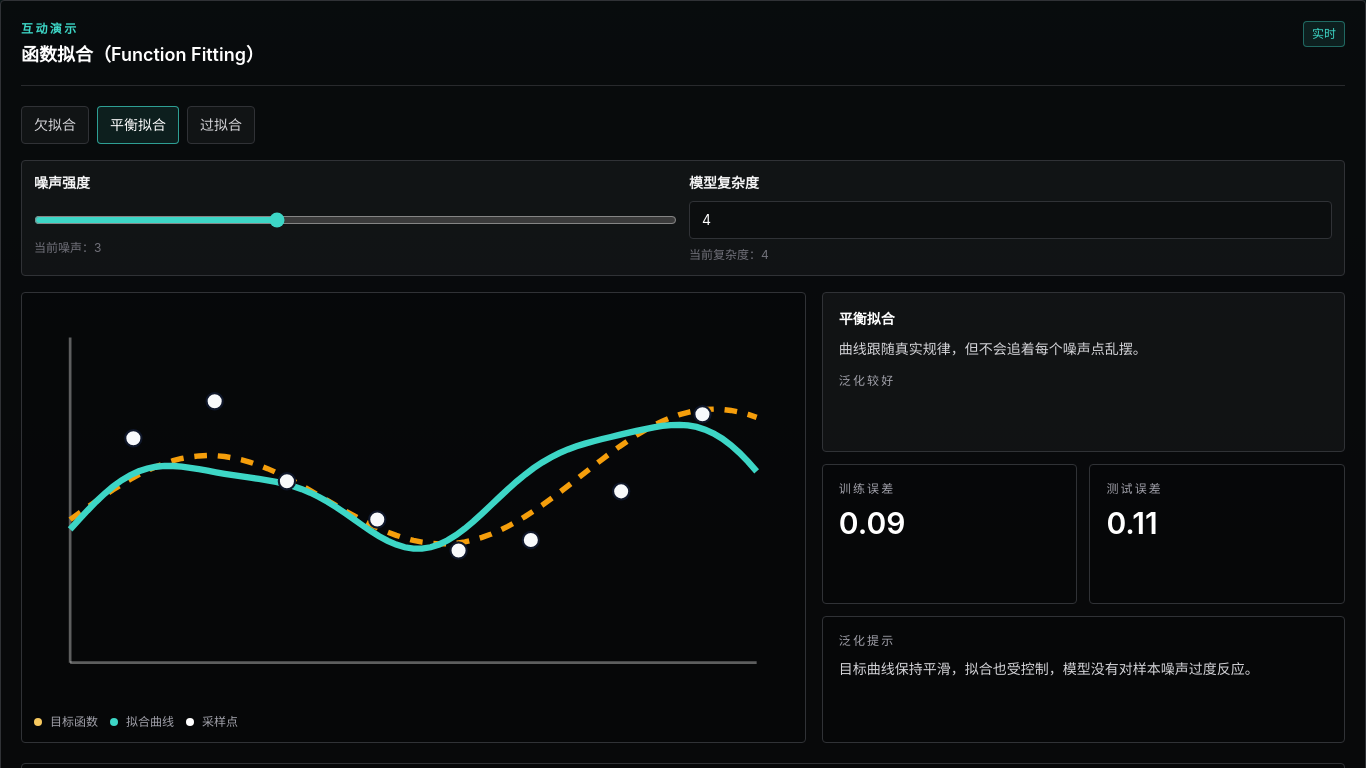
FunctionFittingDemo › lets the presenter tune noise and model complexity
Click the button "过拟合" at coordinates (221, 125), box [187,106,255,144]
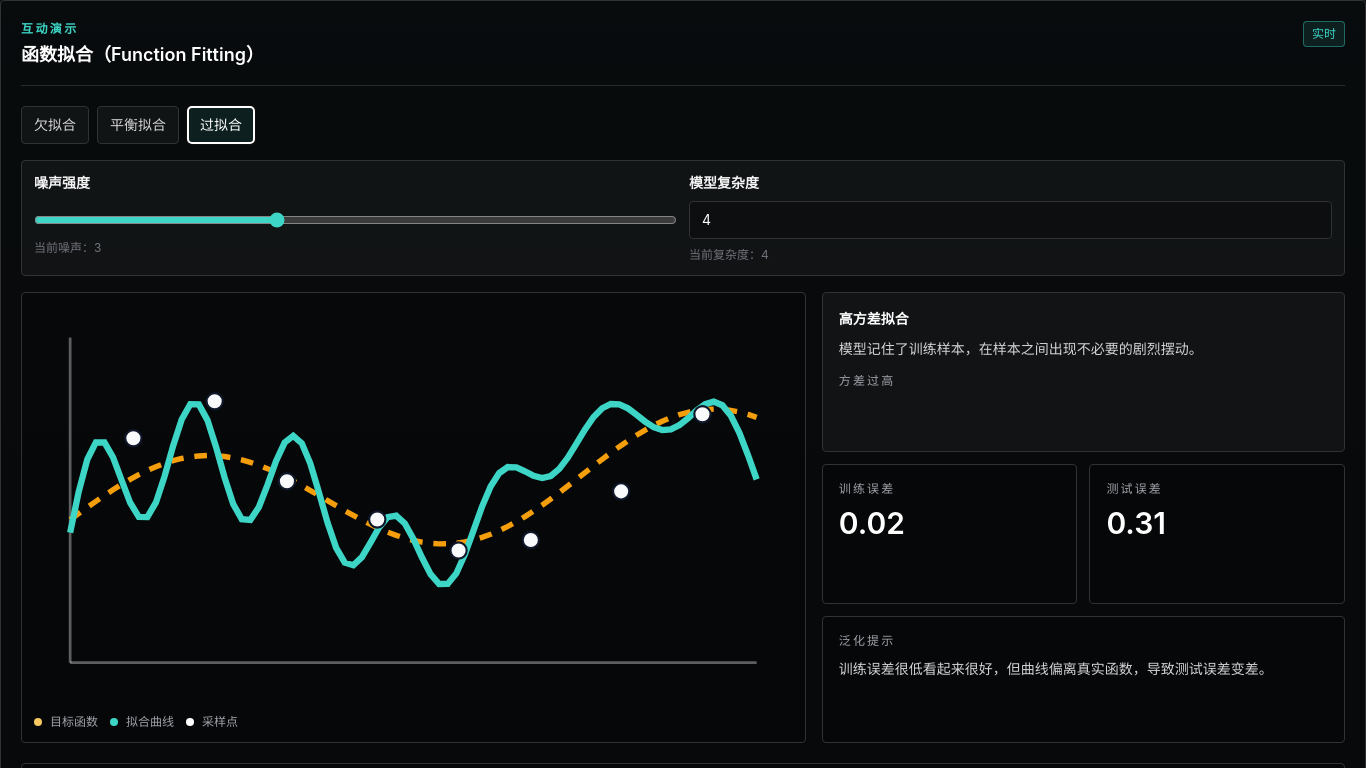
Replace the text in the number field labelled "模型复杂度 当前复杂度：4" with "8" at coordinates (1010, 220), box [689,201,1332,239]
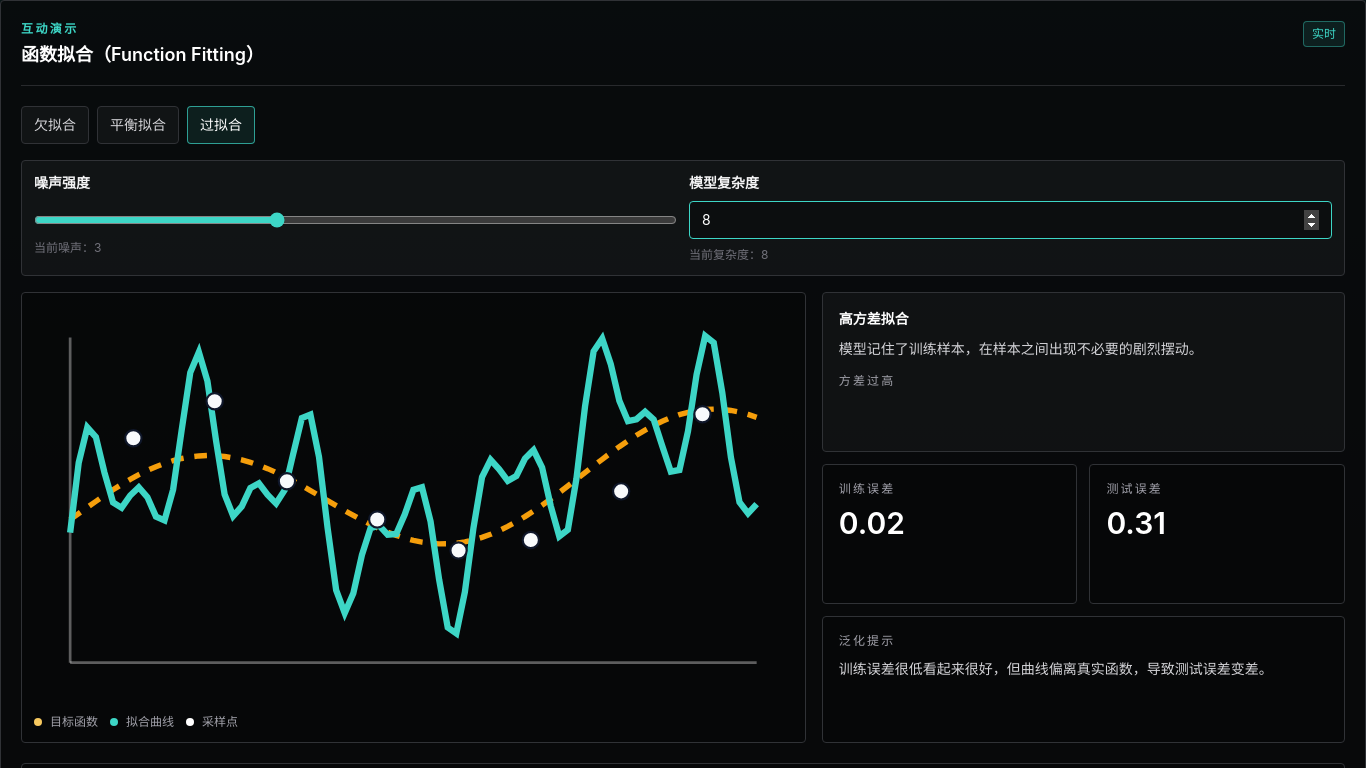
expect the text "当前复杂度：8" is shown: met, box [689,247,768,262]
